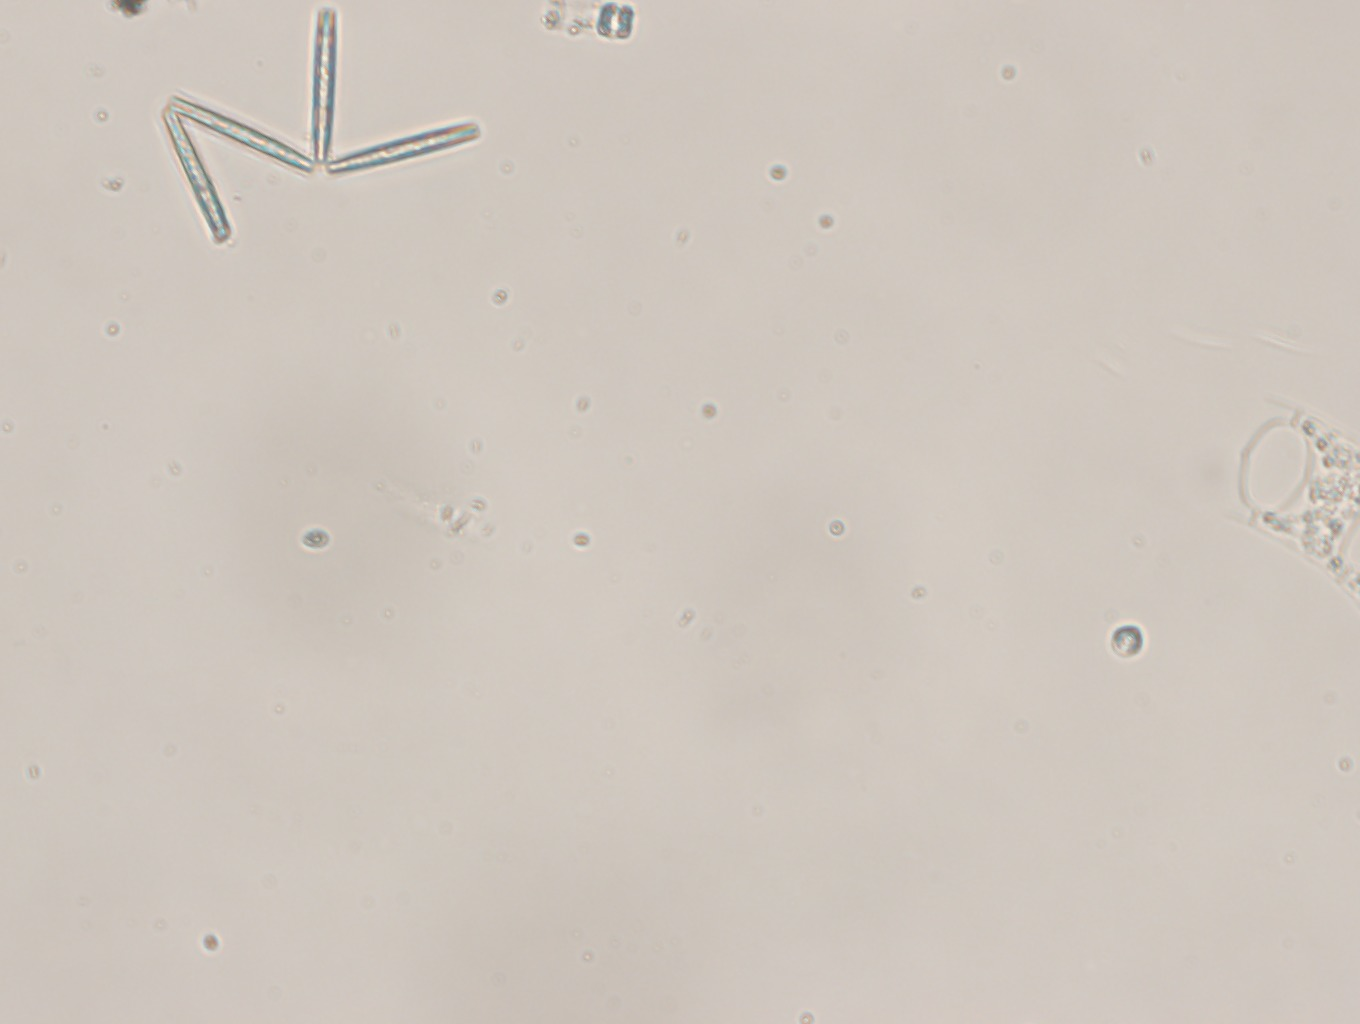thalassionema nitzschioides: (142, 14, 493, 245)
